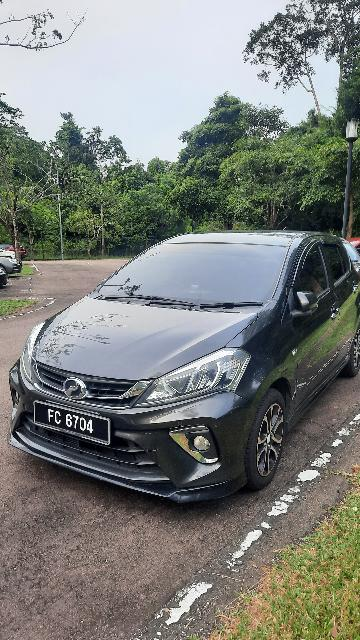License_Plate: (28, 397, 113, 450)
car: (7, 231, 360, 505)
